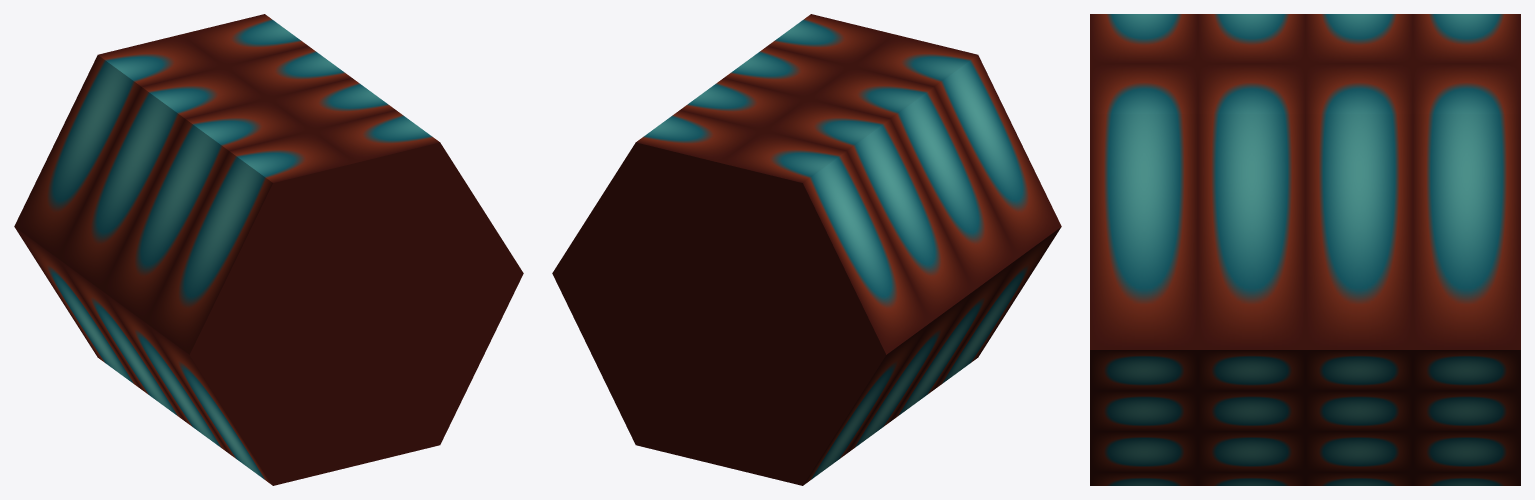
The model's file is hexprism-ocean-c2.glb.
The picture shows the model from 3 angles, left to right: view 1: azimuth 30°, elevation 25°; view 2: azimuth 150°, elevation 25°; view 3: azimuth 270°, elevation 25°; orthographic projection. The views are drawn at different scales.
Visible parts, largest first — view 1: world; view 2: world; view 3: world.
Boxes of the visible parts, x1,y1,x2,y2 form: world: (14,14,523,485); world: (552,14,1061,485); world: (1090,14,1520,485).
Bounding box in the file's own units: 1.1 × 0.9526 × 1.
1 material, 1 textured.
